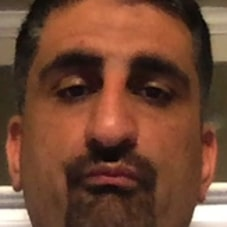drowsy: (36, 47, 190, 194)
